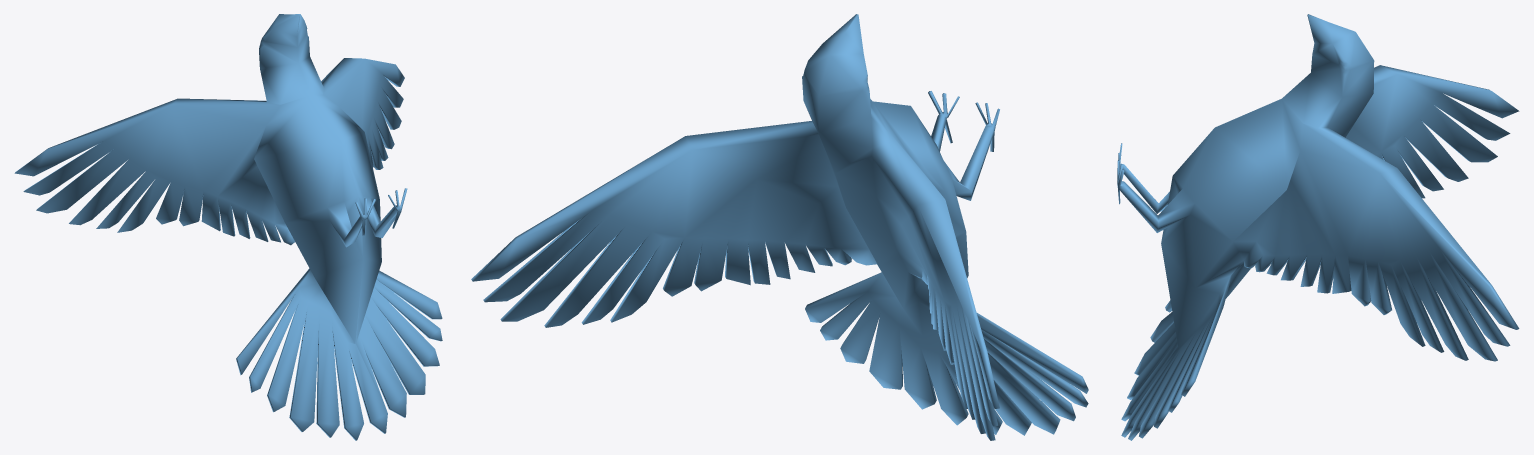
Rendered from pigeon_sky_scout.glb.
3 views of the same model, side by side, from view 1: azimuth 30°, elevation 25°; view 2: azimuth 150°, elevation 25°; view 3: azimuth 270°, elevation 25° (orthographic). The views are drawn at different scales.
Parts seen in each view (by area): view 1: pigeon_sky_scout; view 2: pigeon_sky_scout; view 3: pigeon_sky_scout.
Part boxes in pixels (x1,y1,x2,y2): pigeon_sky_scout: [14, 14, 442, 440]; pigeon_sky_scout: [471, 14, 1088, 440]; pigeon_sky_scout: [1117, 14, 1519, 440].
Size of the model in its own units: 0.55 by 0.4886 by 0.4238.
